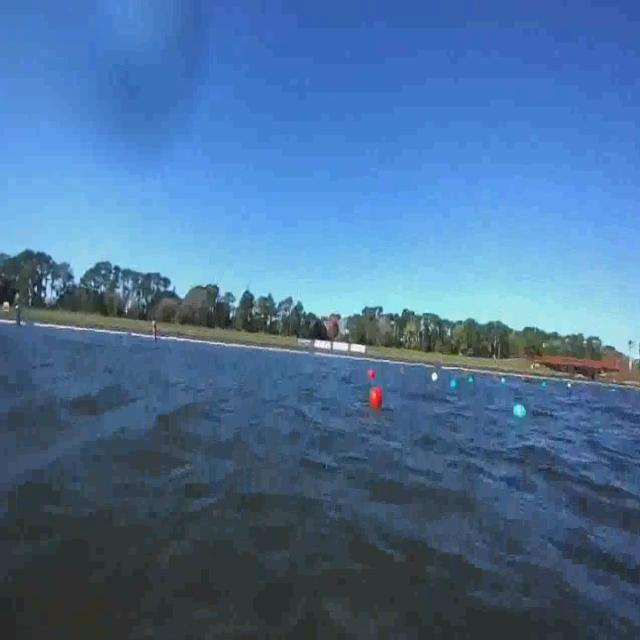green-buoy: (513, 402, 528, 424), (451, 378, 458, 391)
red-buoy: (371, 384, 384, 410), (367, 367, 374, 378)
yellow-buoy: (432, 369, 438, 384)
